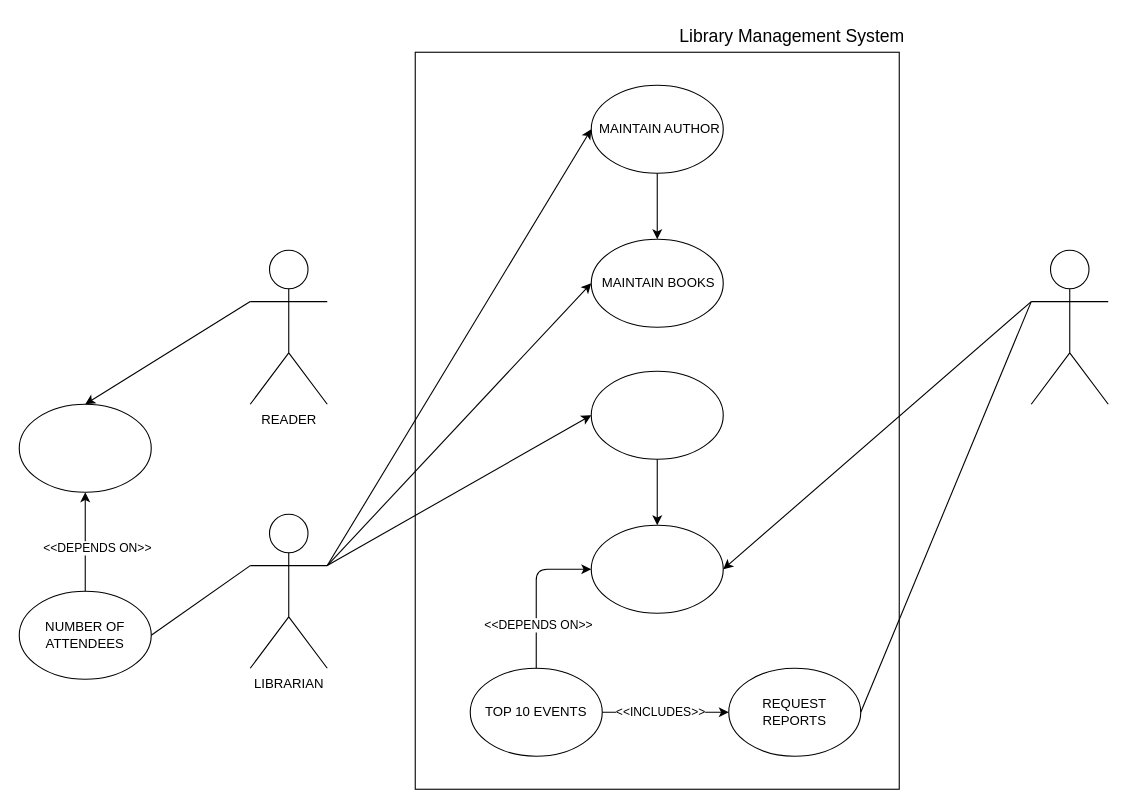
Some shapes in this 1144 by 809 pixel diagram are drawn without their labels. The shapes that lost their labels are listed below. From the top down, each one's centre as x and y in pixels, then its label:
At (1069,326): "LIBRARY OWNER".
At (656,414): "MAINTAIN READERS".
At (84,447): "ATTEND EVENT".
At (656,568): "MAINTAIN EVENTS".
